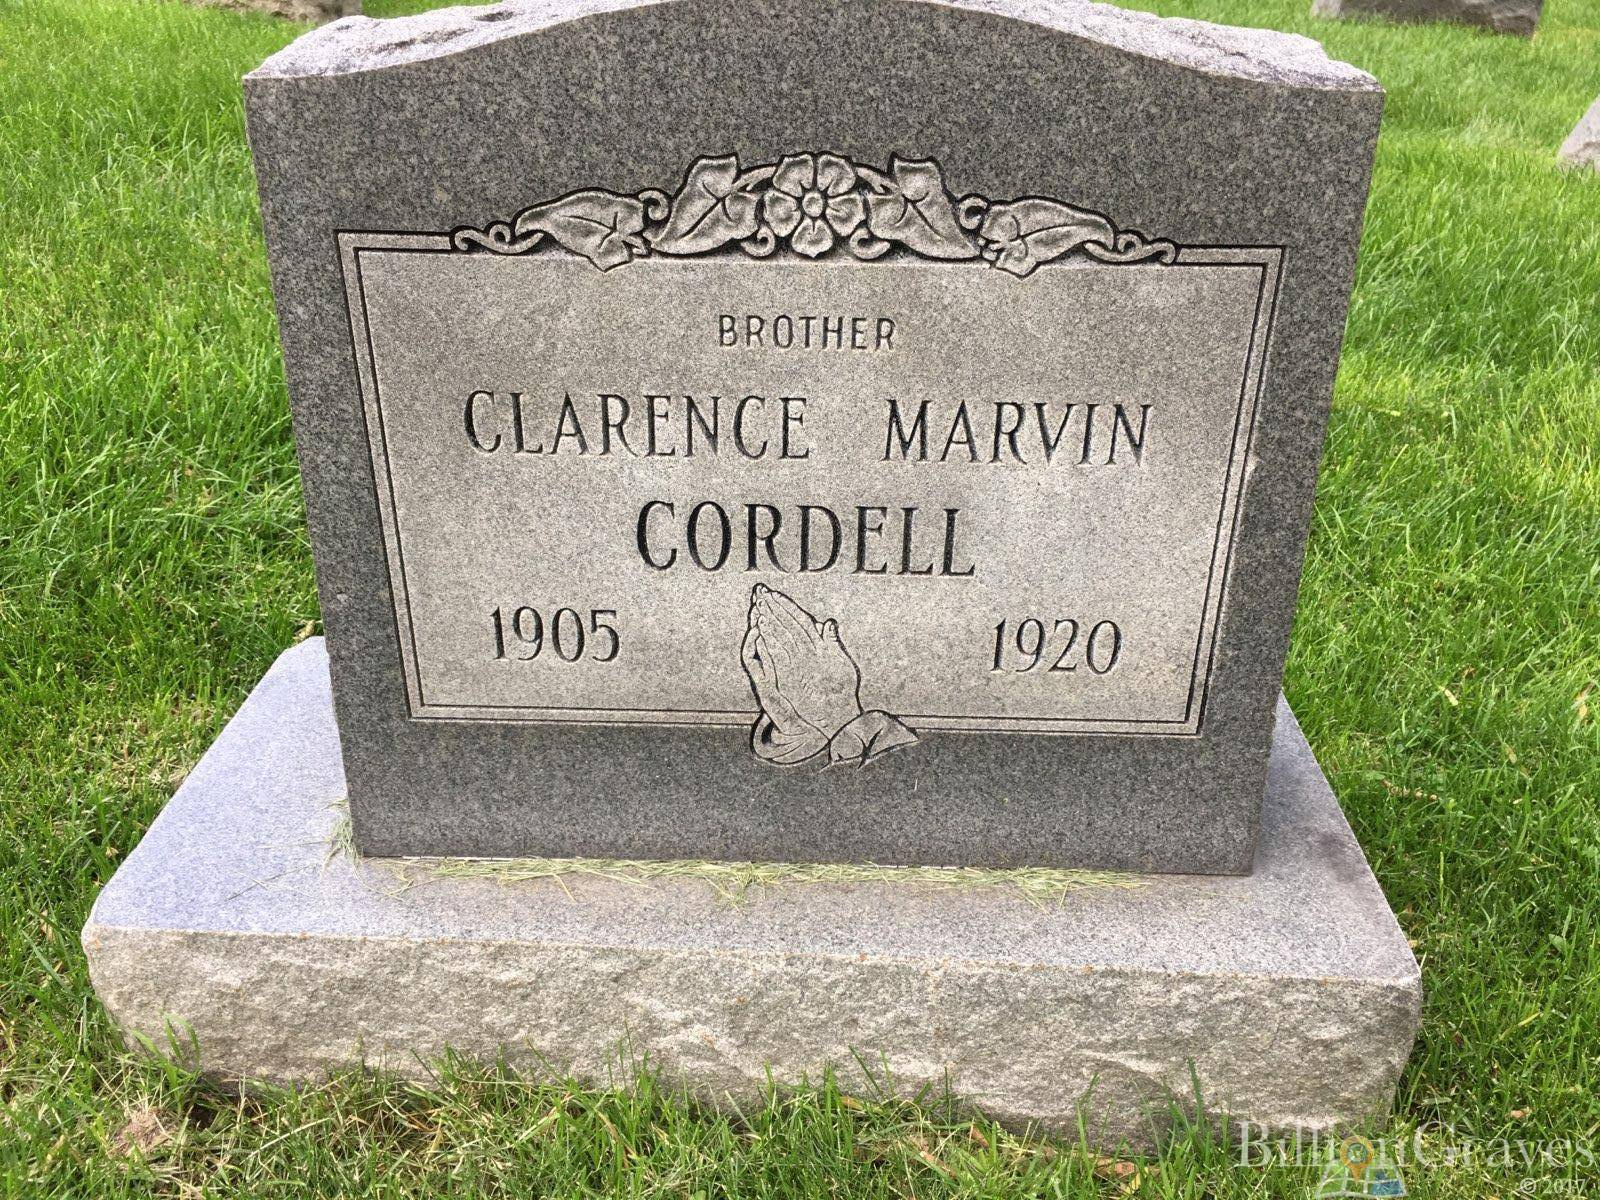upright: (74, 0, 1414, 1118)
